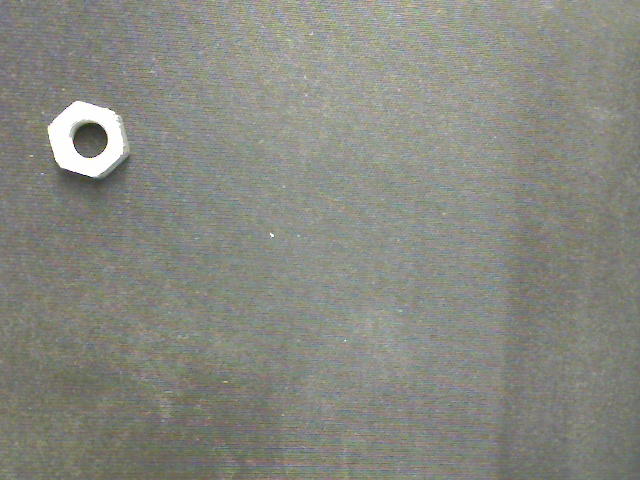nut: (45, 99, 132, 180)
